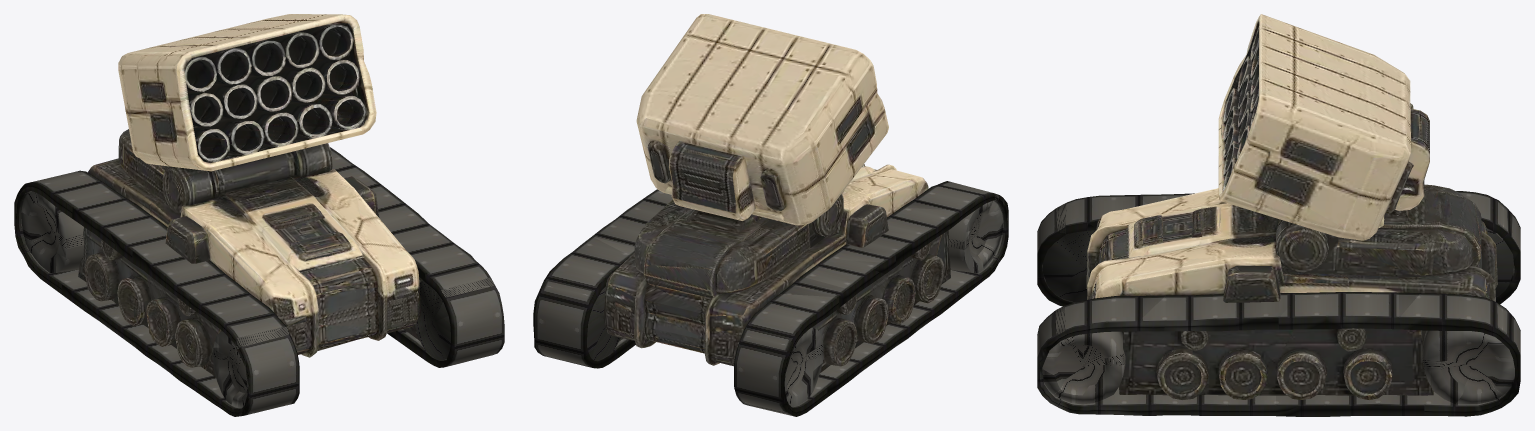
The model's file is behemoth.glb.
3 renders of one model, left to right at view 1: azimuth 30°, elevation 25°; view 2: azimuth 150°, elevation 25°; view 3: azimuth 270°, elevation 25°, orthographic. The views are drawn at different scales.
Visible parts, largest first — view 1: BehemothBody, TrackBeltXNegative, TrackBeltXPositive; view 2: BehemothBody, TrackBeltXNegative, TrackBeltXPositive; view 3: BehemothBody, TrackBeltXPositive, TrackBeltXNegative.
Boxes of the visible parts, x1,y1,x2,y2 form: BehemothBody: (78,14,422,376); TrackBeltXNegative: (14,170,299,416); TrackBeltXPositive: (330,147,504,367); BehemothBody: (603,14,950,372); TrackBeltXNegative: (734,181,1008,416); TrackBeltXPositive: (533,189,672,368); BehemothBody: (1086,14,1497,399); TrackBeltXPositive: (1037,292,1520,416); TrackBeltXNegative: (1037,191,1520,306).
Bounding box in the file's own units: 0.6367 × 0.6816 × 1.
Materials: 2 (2 with a texture image).
